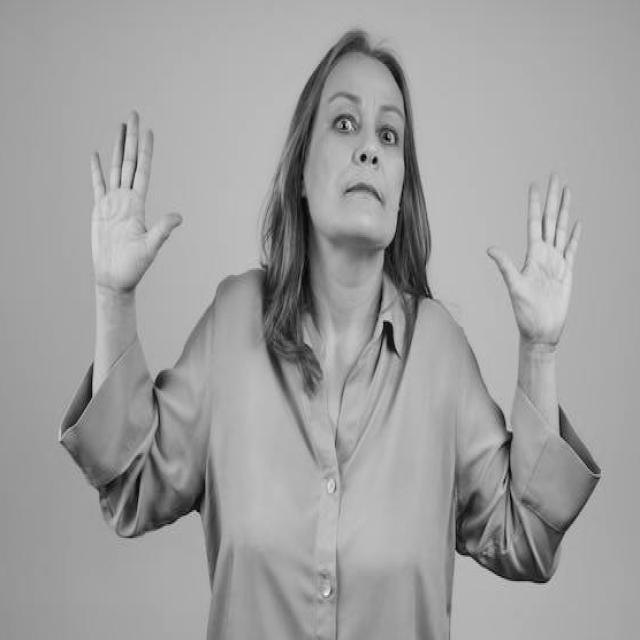stop: (87, 103, 185, 304), (483, 166, 586, 353)
